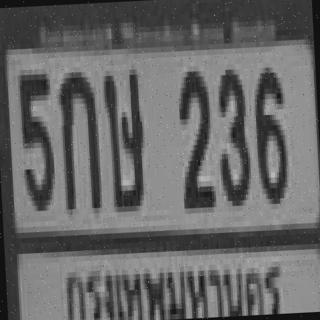A01: (57, 66, 100, 210)
A39: (101, 64, 144, 208)
N02: (175, 66, 212, 204)
N03: (213, 64, 250, 202)
N05: (17, 69, 54, 207)
N06: (251, 62, 286, 200)
P04: (55, 238, 291, 320)
